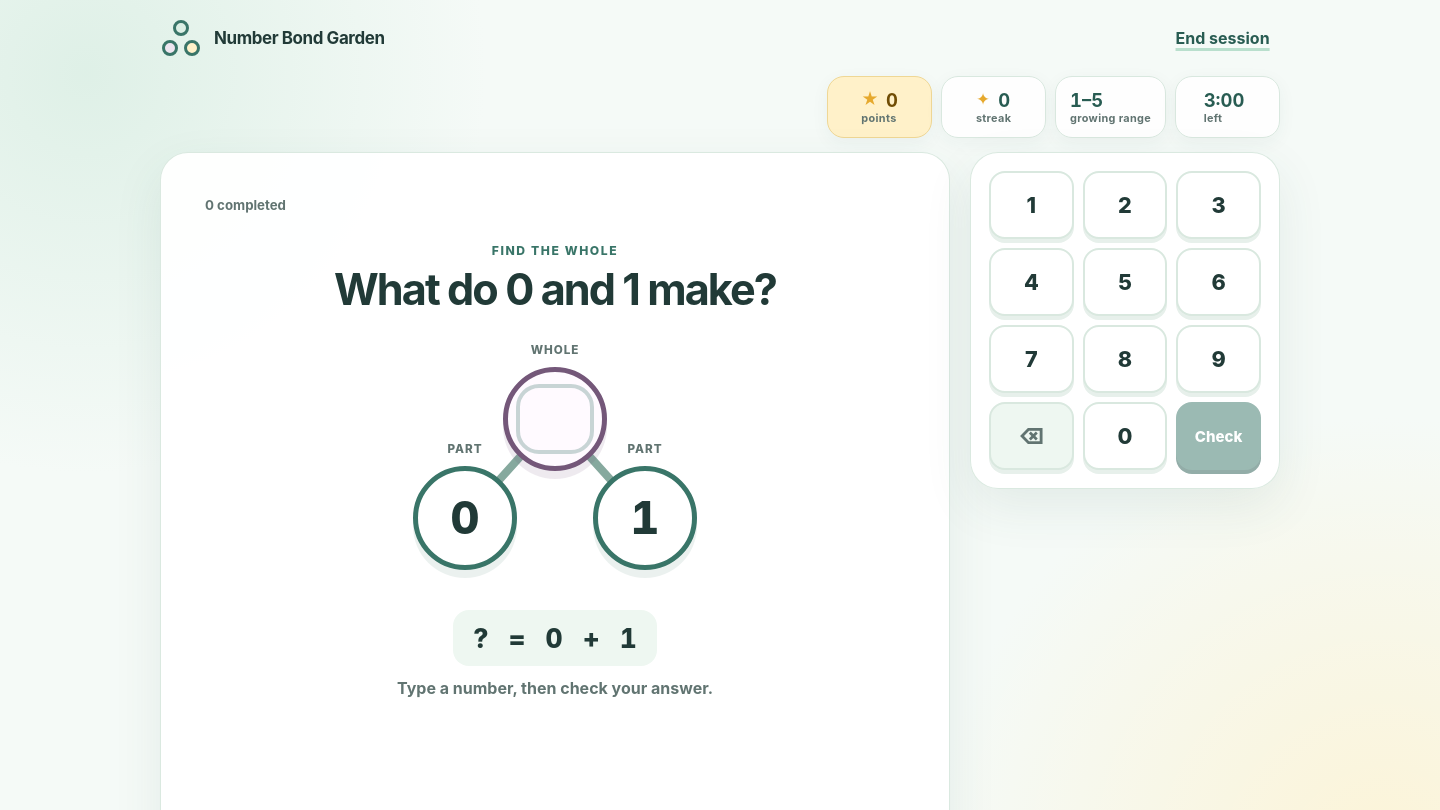
Scenario: PracticeScreen › ends a timed session automatically and records the timer reason
Type "1" into the field named "Missing whole" at (555, 419), box [521, 389, 589, 449]
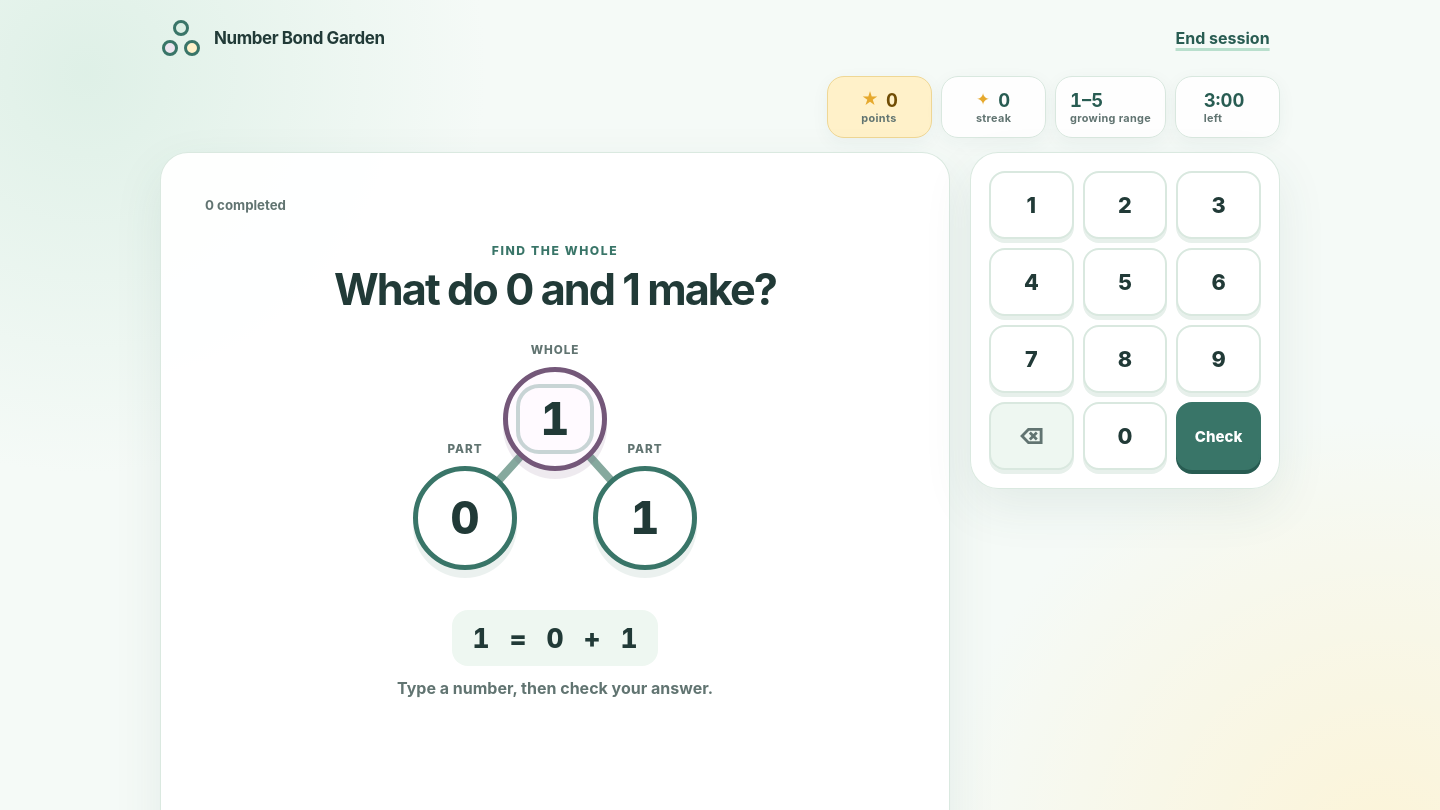
Click the button "Check" at (1219, 436), box [1176, 402, 1261, 470]
Wait 180000 ms
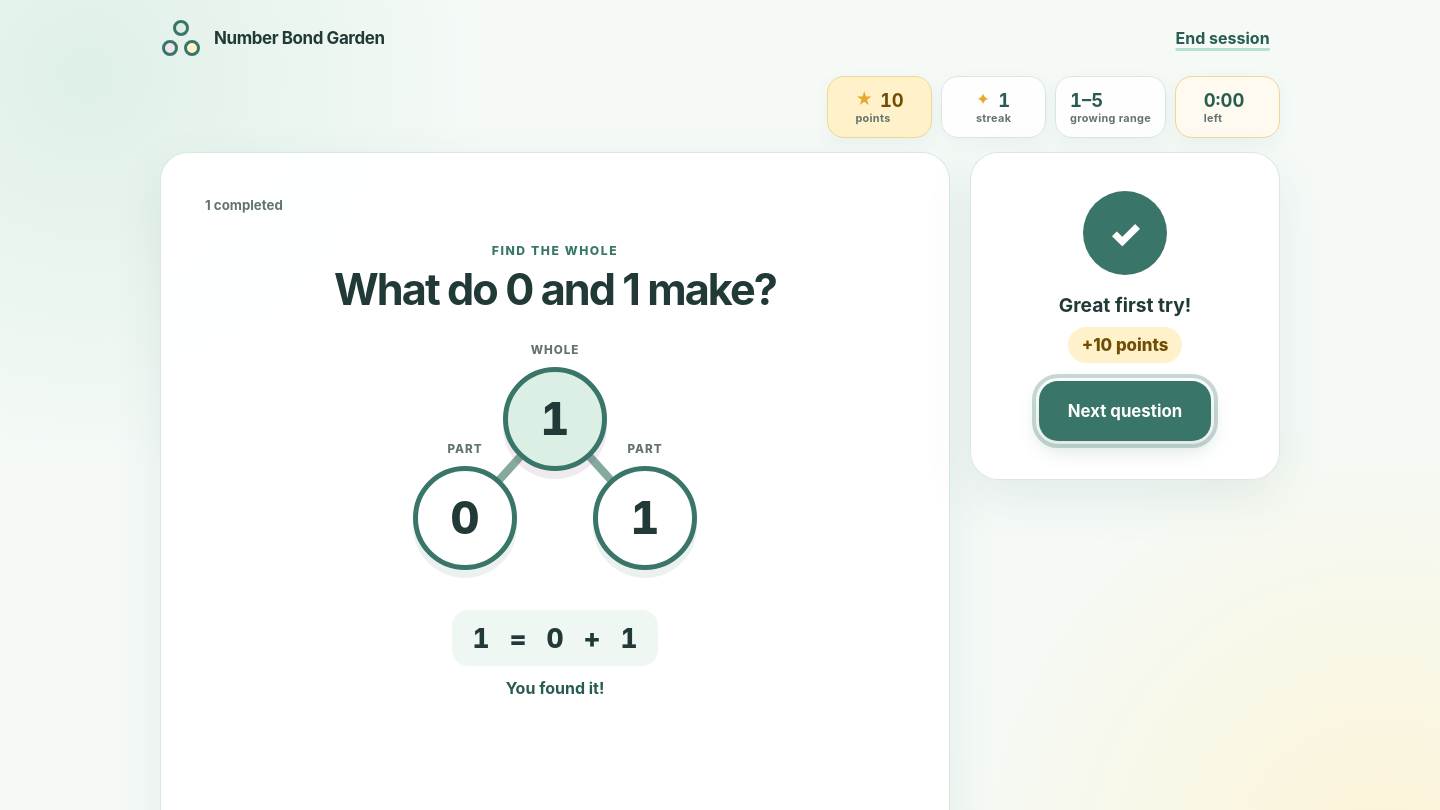
Check: the element labelled "10 points" is shown, box [827, 76, 932, 138]
